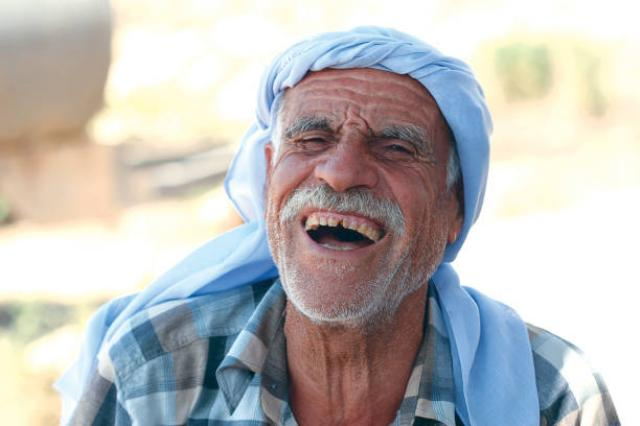crows_feet: (411, 147, 434, 171), (278, 140, 304, 158)
forehead: (307, 87, 349, 107), (362, 88, 403, 106), (362, 72, 402, 90), (311, 70, 349, 88)
frown_line: (354, 111, 378, 137), (332, 113, 348, 141)
gummy_smile: (385, 184, 403, 214), (286, 172, 310, 194)
